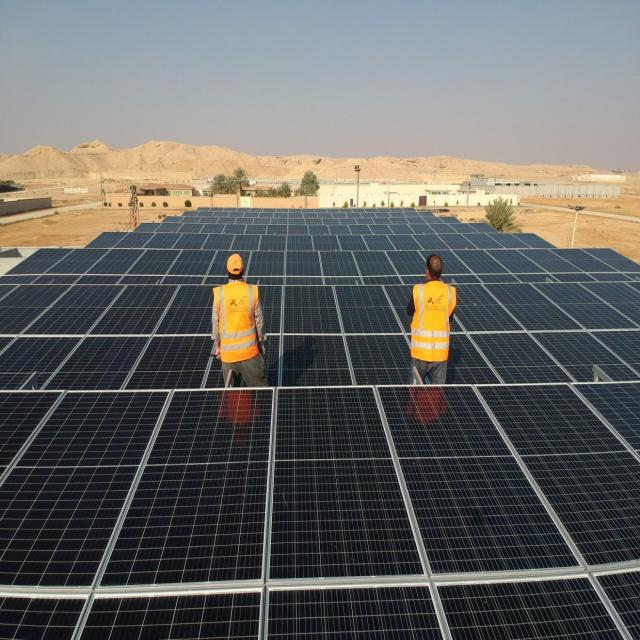clean-solar-panel: (0, 205, 640, 640)
